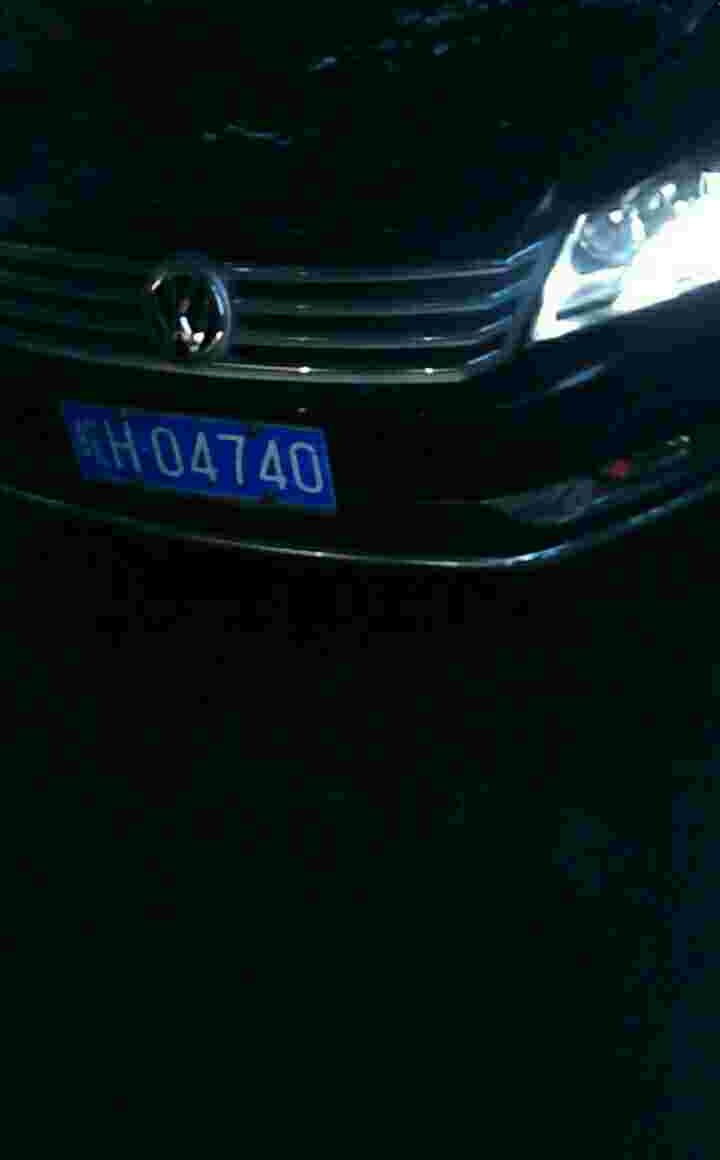license_plate: (74, 396, 351, 513)
